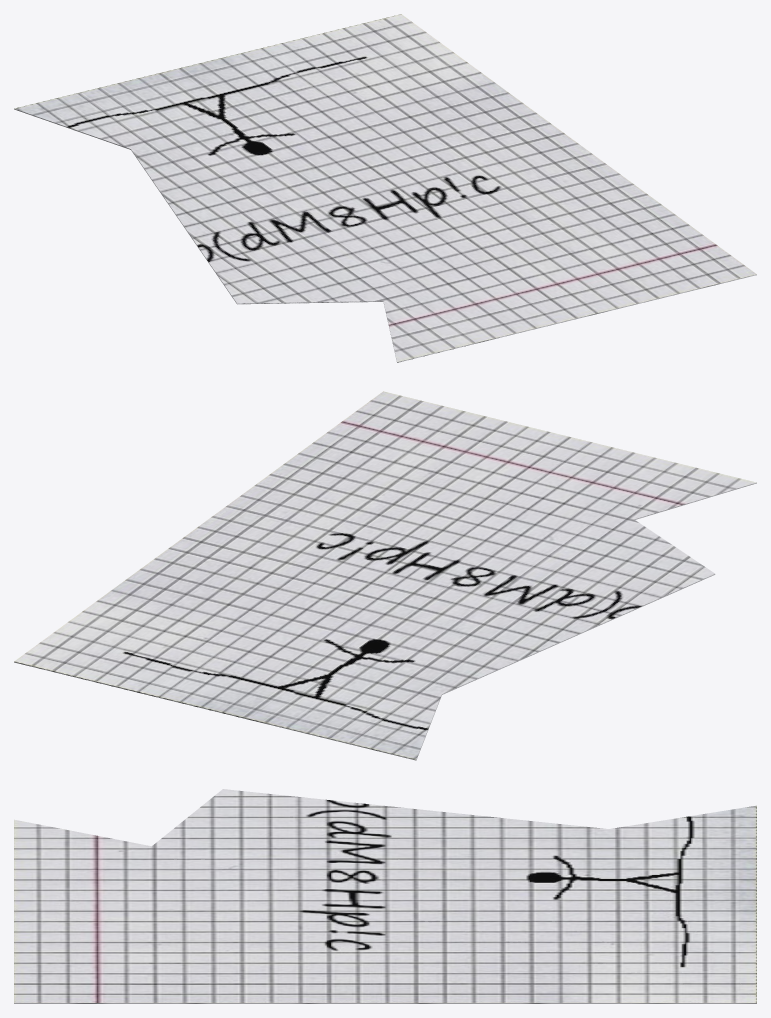
File: karteczka_2.fbx
3 views of the same model, one above another, from view 1: azimuth 30°, elevation 25°; view 2: azimuth 150°, elevation 25°; view 3: azimuth 270°, elevation 25° (orthographic). The views are drawn at different scales.
Visible parts, largest first — view 1: Cube; view 2: Cube; view 3: Cube.
Part boxes in pixels (left/top/right/bottom): Cube: left=14, top=14, right=756, bottom=362; Cube: left=14, top=391, right=756, bottom=760; Cube: left=14, top=789, right=756, bottom=1003.
Size of the model in its own units: 136 by 0.253 by 200.
Materials: 1 (1 with a texture image).
